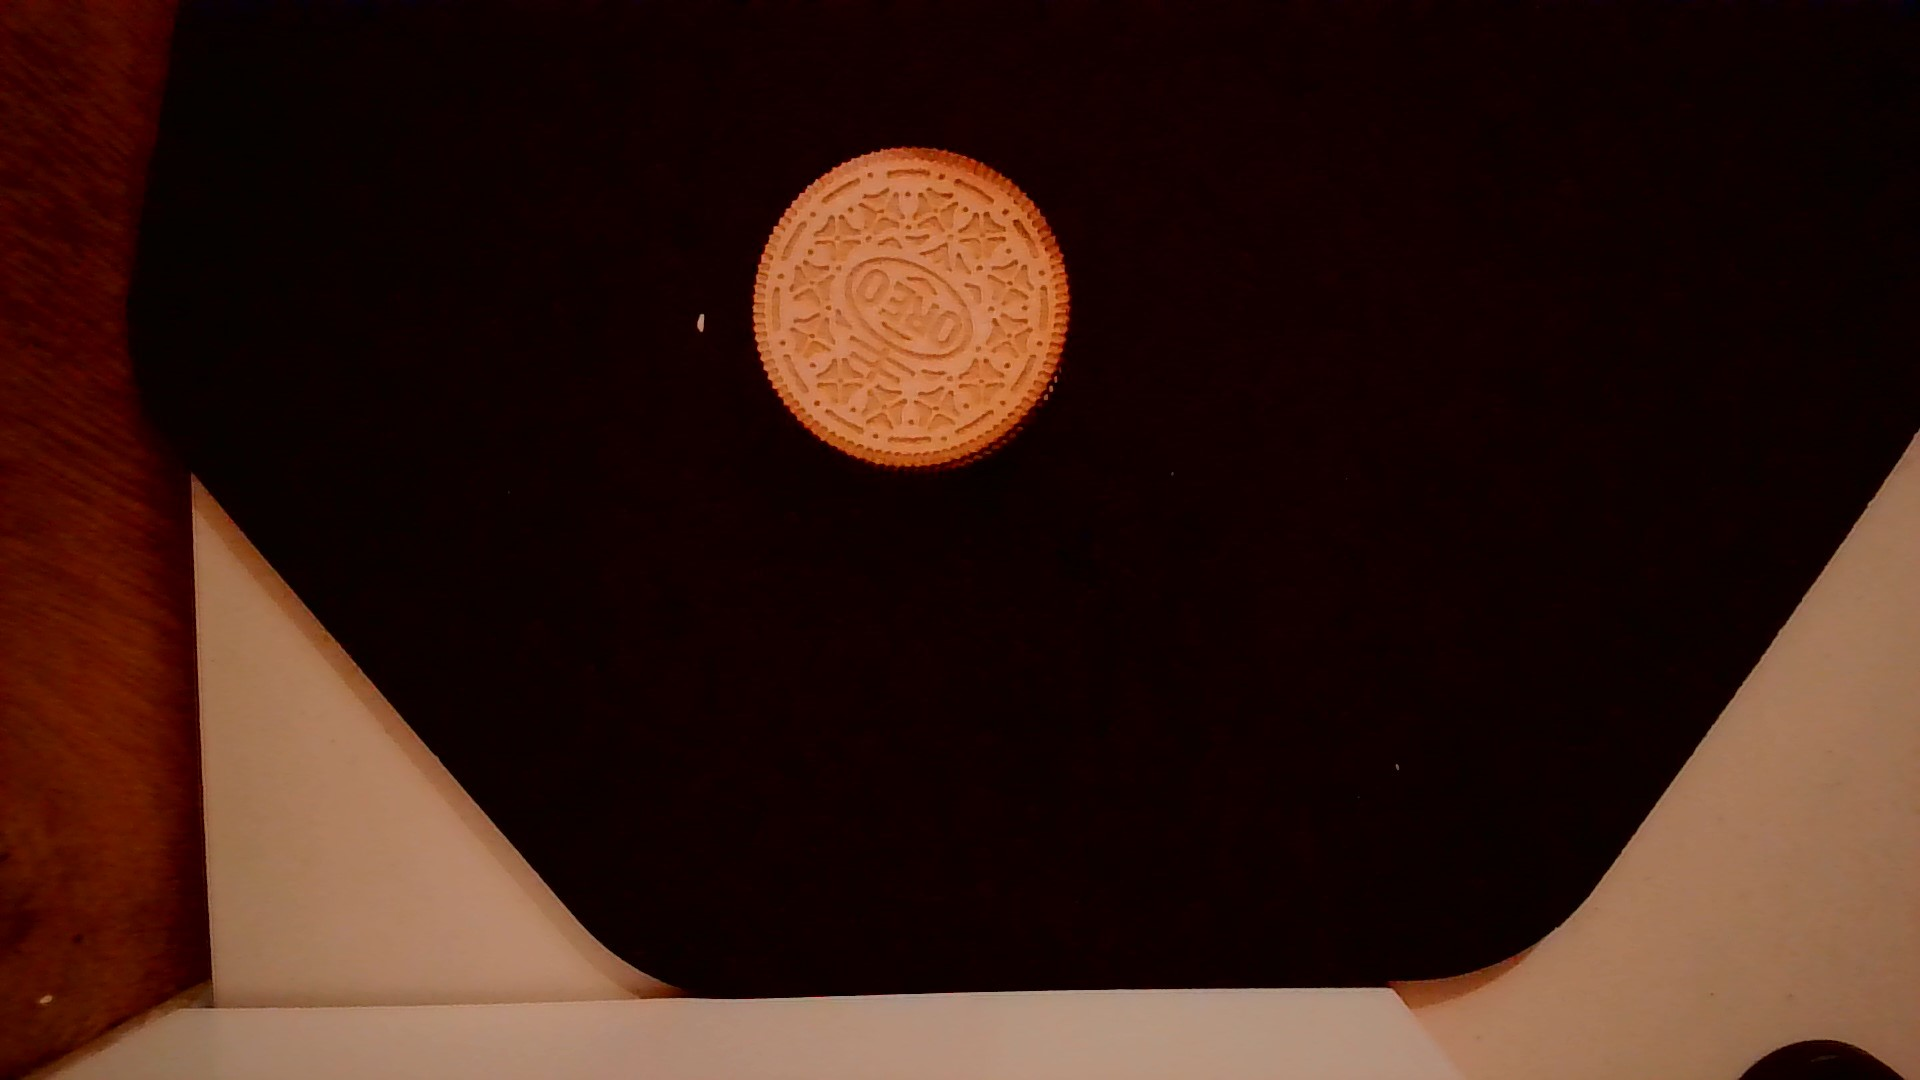Oréo: (741, 137, 1077, 477)
